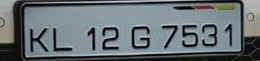1: (223, 23, 236, 48), (87, 26, 98, 51)
2: (101, 26, 120, 51)
3: (201, 24, 219, 48)
5: (181, 24, 199, 48)
7: (159, 24, 179, 49)
G: (130, 23, 153, 51)
K: (27, 26, 51, 53)
L: (51, 27, 73, 52)
